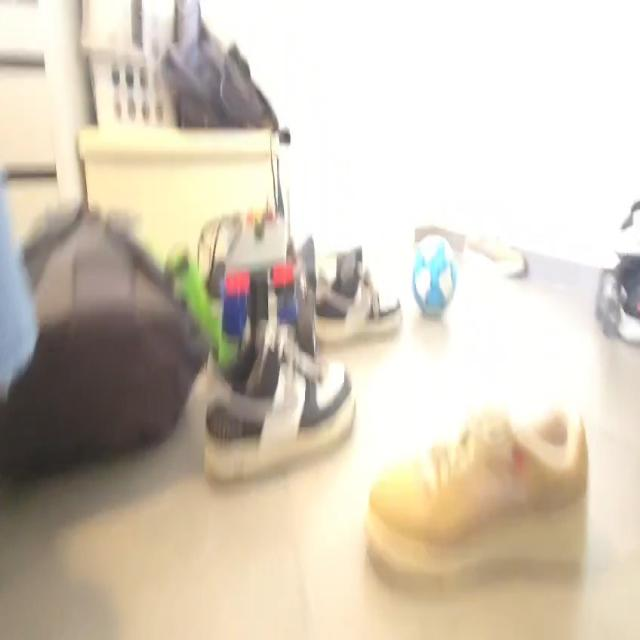Robot: (222, 210, 316, 357)
